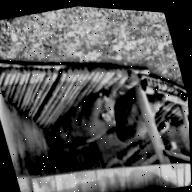boar: (34, 64, 146, 161), (103, 79, 177, 151)
